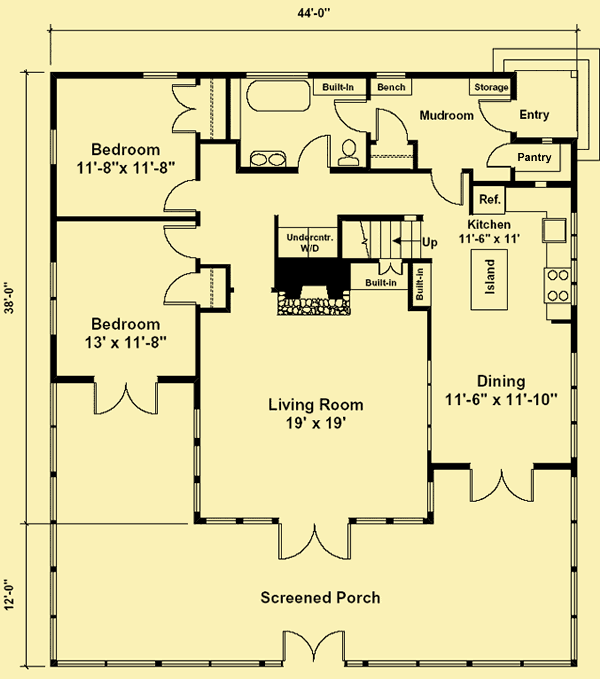door: (274, 518, 353, 561), (467, 459, 537, 504), (279, 626, 346, 664), (92, 380, 159, 415), (170, 82, 201, 139), (293, 131, 333, 175), (331, 96, 373, 136), (160, 222, 201, 261), (478, 96, 517, 135), (159, 269, 201, 305), (160, 177, 199, 215), (372, 107, 409, 146), (428, 168, 465, 207), (483, 142, 514, 173), (376, 260, 408, 278)
stairs: (337, 214, 425, 262)
tub: (241, 80, 311, 117)
window: (191, 409, 204, 513), (570, 210, 582, 306), (570, 348, 580, 458), (47, 261, 60, 341), (47, 124, 59, 168), (423, 479, 435, 517), (138, 70, 182, 80), (372, 70, 411, 78)
